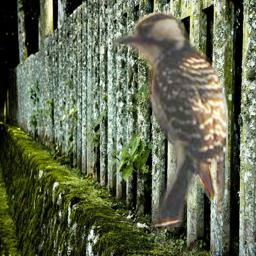Woodpecker: (112, 11, 228, 227)
